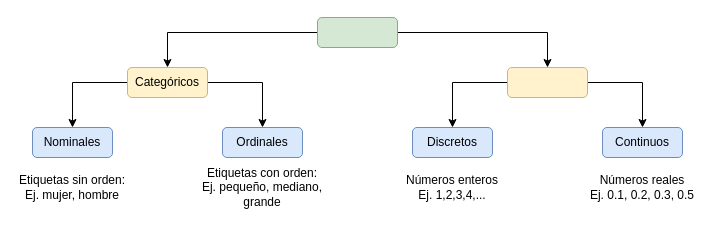
Some shapes in this 714 by 226 pixel diagram are drawn without their labels. Each missing label, with the box of its shape:
Numércos: (506, 66, 588, 98)
Variables: (316, 16, 398, 48)
